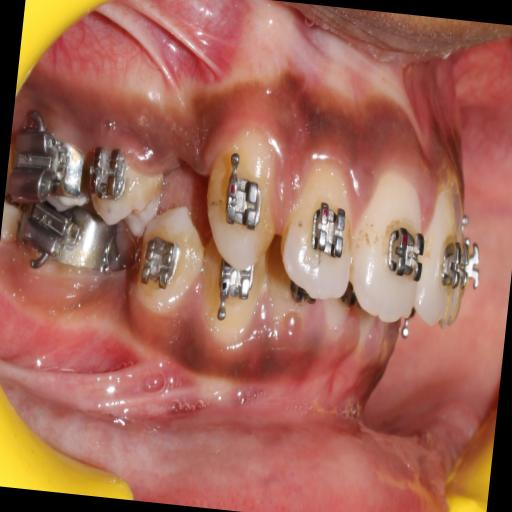correct_brace: (80, 136, 170, 247), (304, 197, 353, 265), (380, 220, 428, 288)
incorrect_brace: (274, 156, 362, 312), (86, 142, 132, 201)
